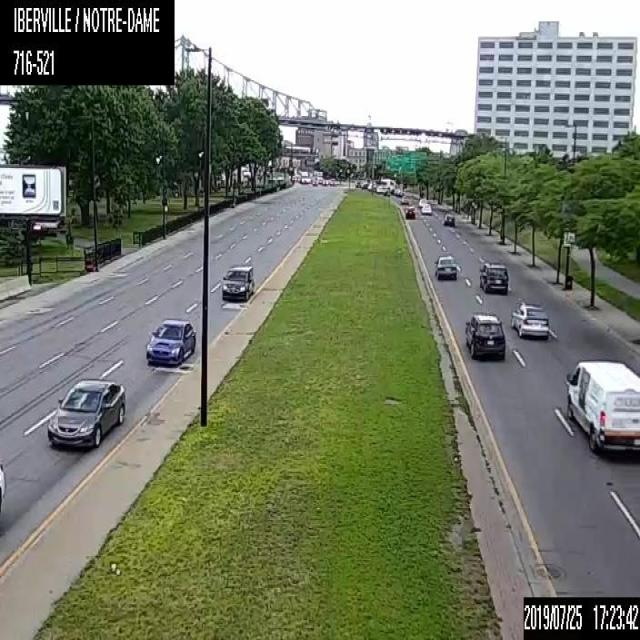bus: (380, 178, 394, 193)
vehicle: (565, 359, 639, 453), (46, 373, 126, 448), (144, 315, 196, 364), (466, 310, 505, 362), (510, 296, 549, 337), (220, 264, 254, 300), (479, 260, 508, 291), (434, 253, 457, 280), (0, 461, 6, 514), (442, 210, 454, 227), (404, 204, 414, 217), (421, 202, 431, 213), (300, 170, 308, 183), (418, 197, 426, 206), (401, 194, 407, 204), (312, 178, 317, 186), (322, 178, 327, 186)
